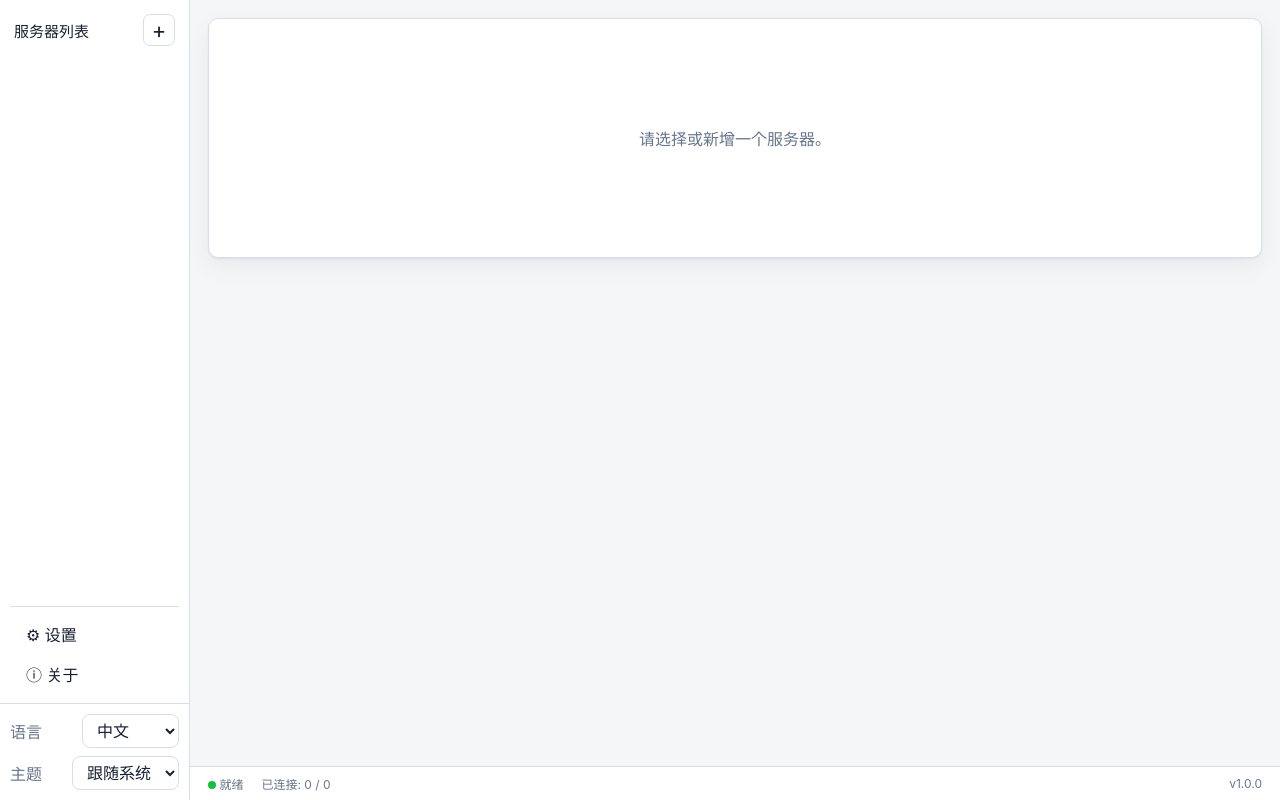
TunnelDockApp › defaults to Chinese UI and can switch to English
Check: the heading "服务器列表" is shown, box [14,20,89,40]
Check: the text "请选择或新增一个服务器。" is shown, box [208,18,1262,258]
Select "English" in the dropdown labelled "语言". click: x=130, y=731
box: [82,714,179,748]
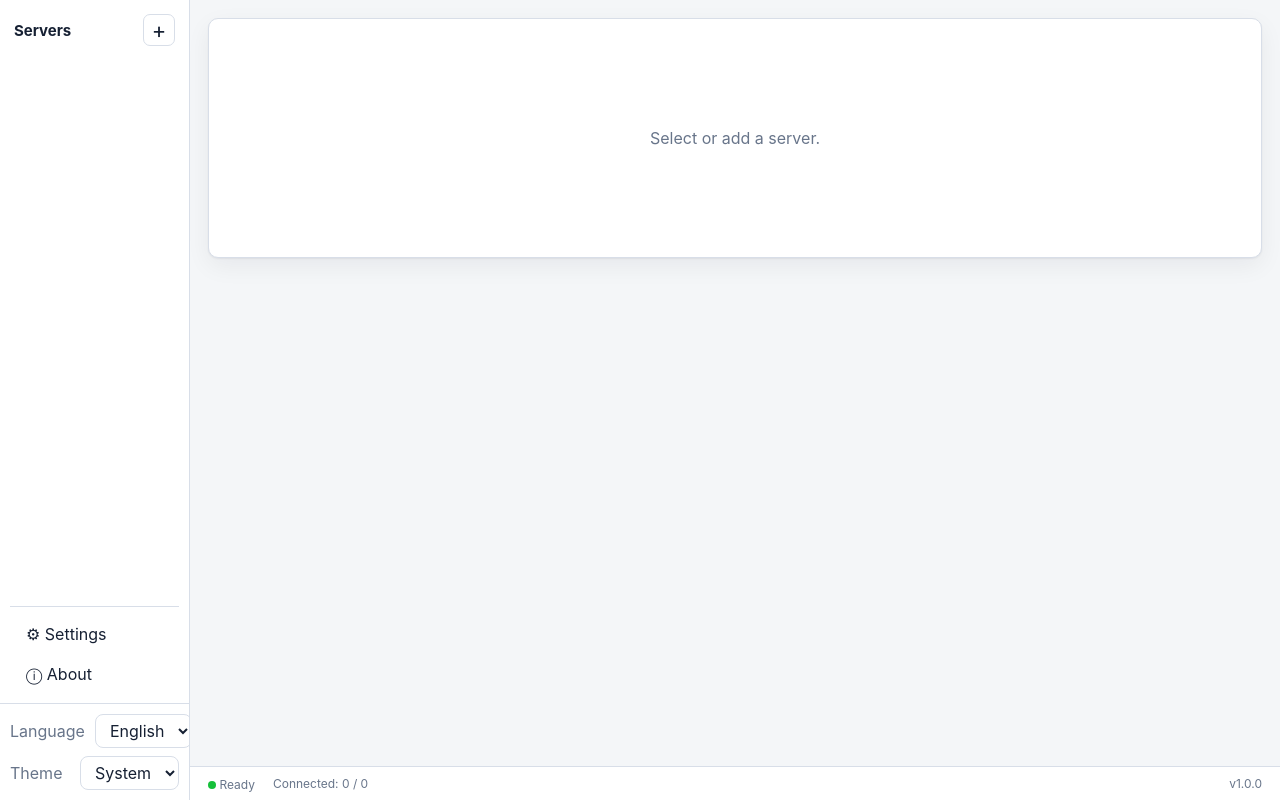
Check: the heading "Servers" is shown, box [14,20,71,40]
Check: the text "Select or add a server." is shown, box [208,18,1262,258]
